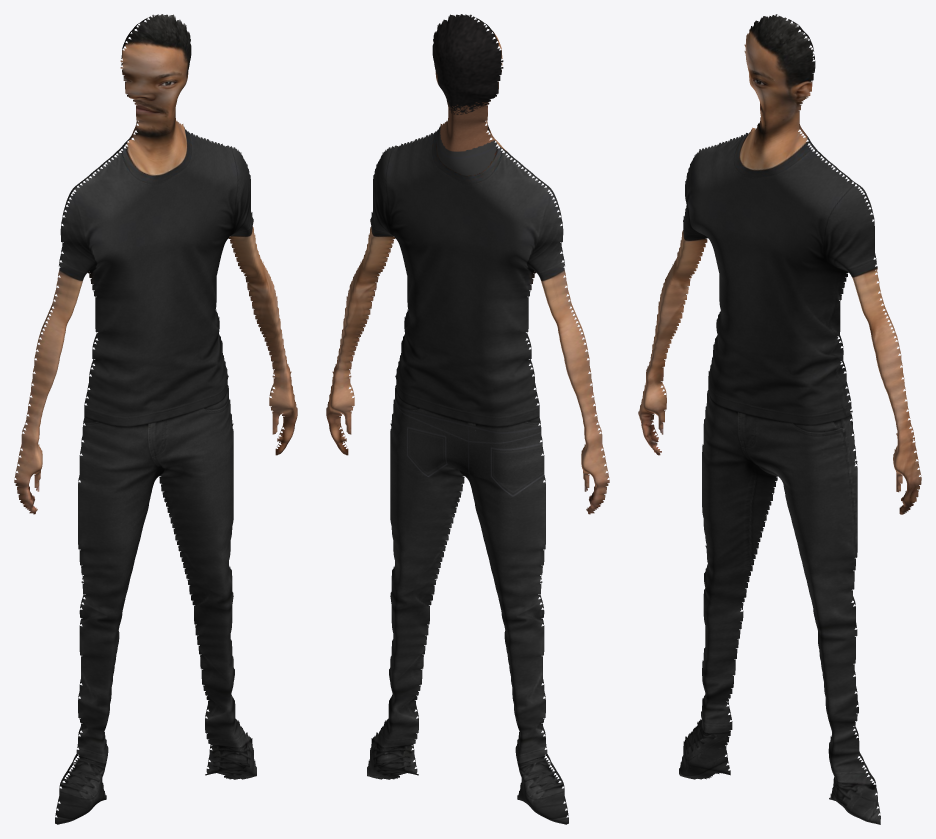
File: figure_360.glb
3 views of the same model, side by side, from view 1: azimuth 30°, elevation 25°; view 2: azimuth 150°, elevation 25°; view 3: azimuth 330°, elevation 25° (orthographic).
Visible parts, largest first — view 1: figure; view 2: figure; view 3: figure.
Boxes of the visible parts, bbox=[...] form: figure: bbox=[14, 14, 297, 824]; figure: bbox=[326, 14, 609, 824]; figure: bbox=[638, 14, 921, 824].
Bounding box in the file's own units: 0.6516 × 1.73 × 0.1368.
2 materials, 2 textured.
